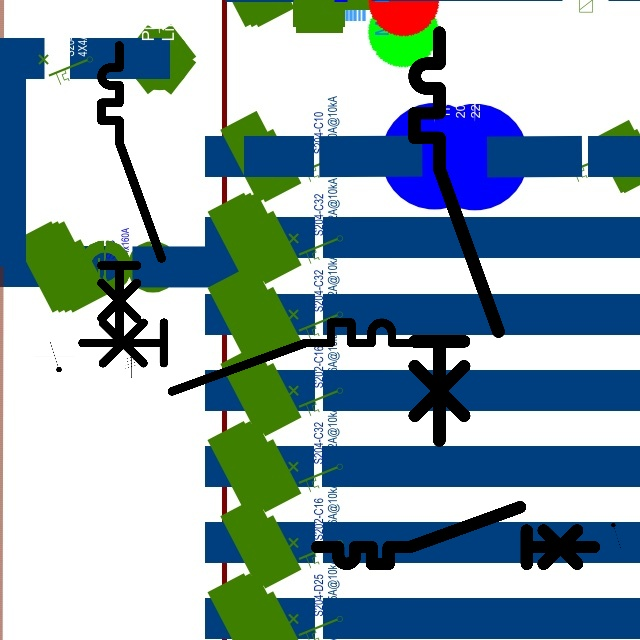interruptor_termomagnetico: (404, 22, 509, 451), (73, 314, 425, 400), (94, 38, 168, 343), (310, 500, 601, 571)
